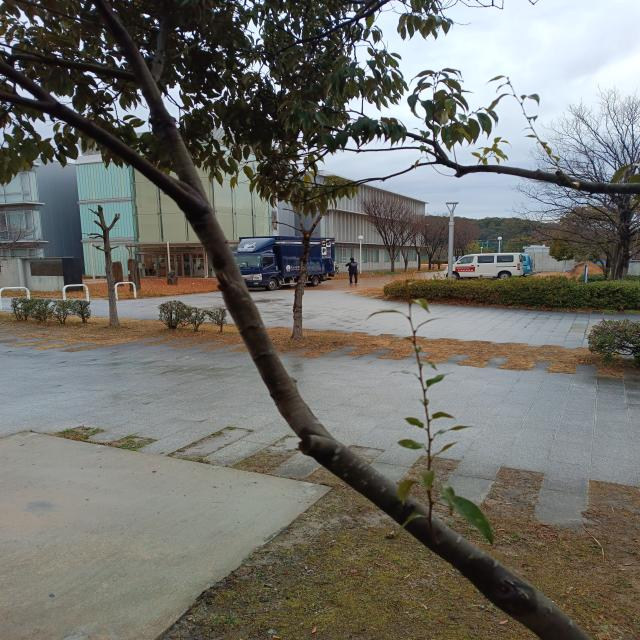Branch: (185, 200, 590, 640)
Twig: (0, 62, 200, 200), (95, 0, 207, 202), (6, 54, 137, 81), (151, 4, 175, 82)
